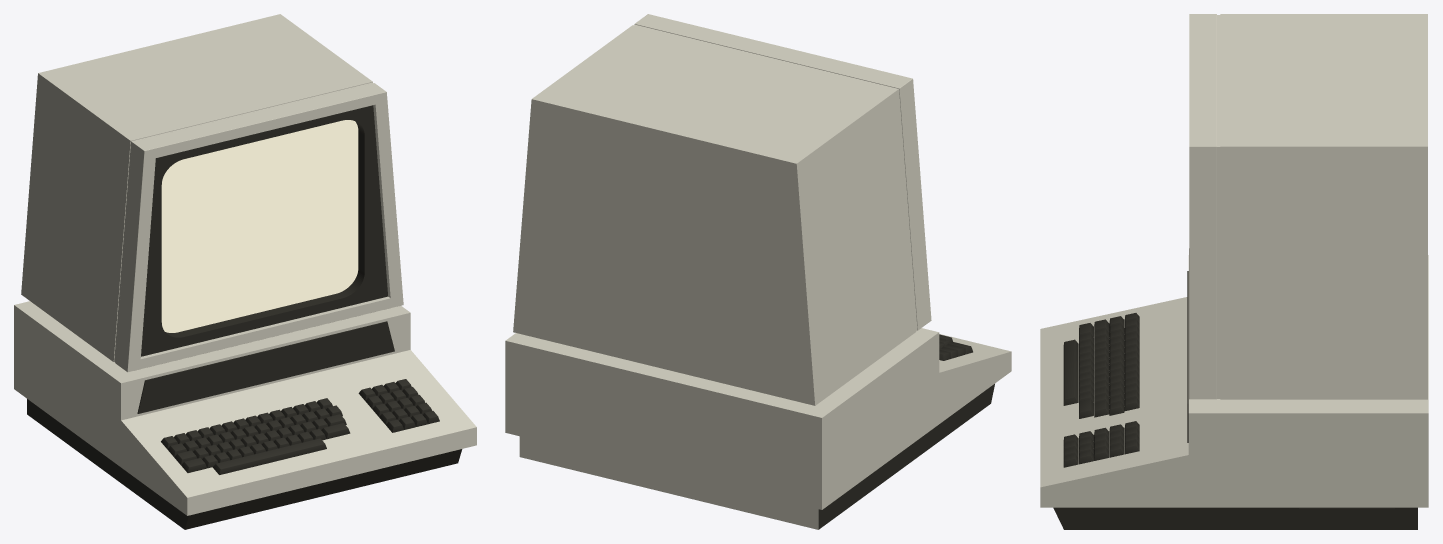
Rendered from computer-d55a0294.glb.
3 renders of one model, left to right at view 1: azimuth 30°, elevation 25°; view 2: azimuth 150°, elevation 25°; view 3: azimuth 270°, elevation 25°, orthographic. The views are drawn at different scales.
Visible parts, largest first — view 1: Monitor, Retro8000, Display, Keys, NamePlate; view 2: Monitor, Retro8000; view 3: Monitor, Retro8000, Keys.
Boxes of the visible parts, bbox=[...] form: Monitor: bbox=[21, 14, 403, 372]; Retro8000: bbox=[14, 301, 476, 529]; Display: bbox=[161, 120, 358, 332]; Keys: bbox=[161, 379, 439, 474]; NamePlate: bbox=[137, 321, 394, 413]; Monitor: bbox=[513, 14, 931, 405]; Retro8000: bbox=[505, 328, 1011, 529]; Monitor: bbox=[1189, 14, 1427, 399]; Retro8000: bbox=[1040, 255, 1428, 529]; Keys: bbox=[1063, 313, 1139, 467].
Bounding box in the file's own units: 0.3955 × 0.4363 × 0.4099.
